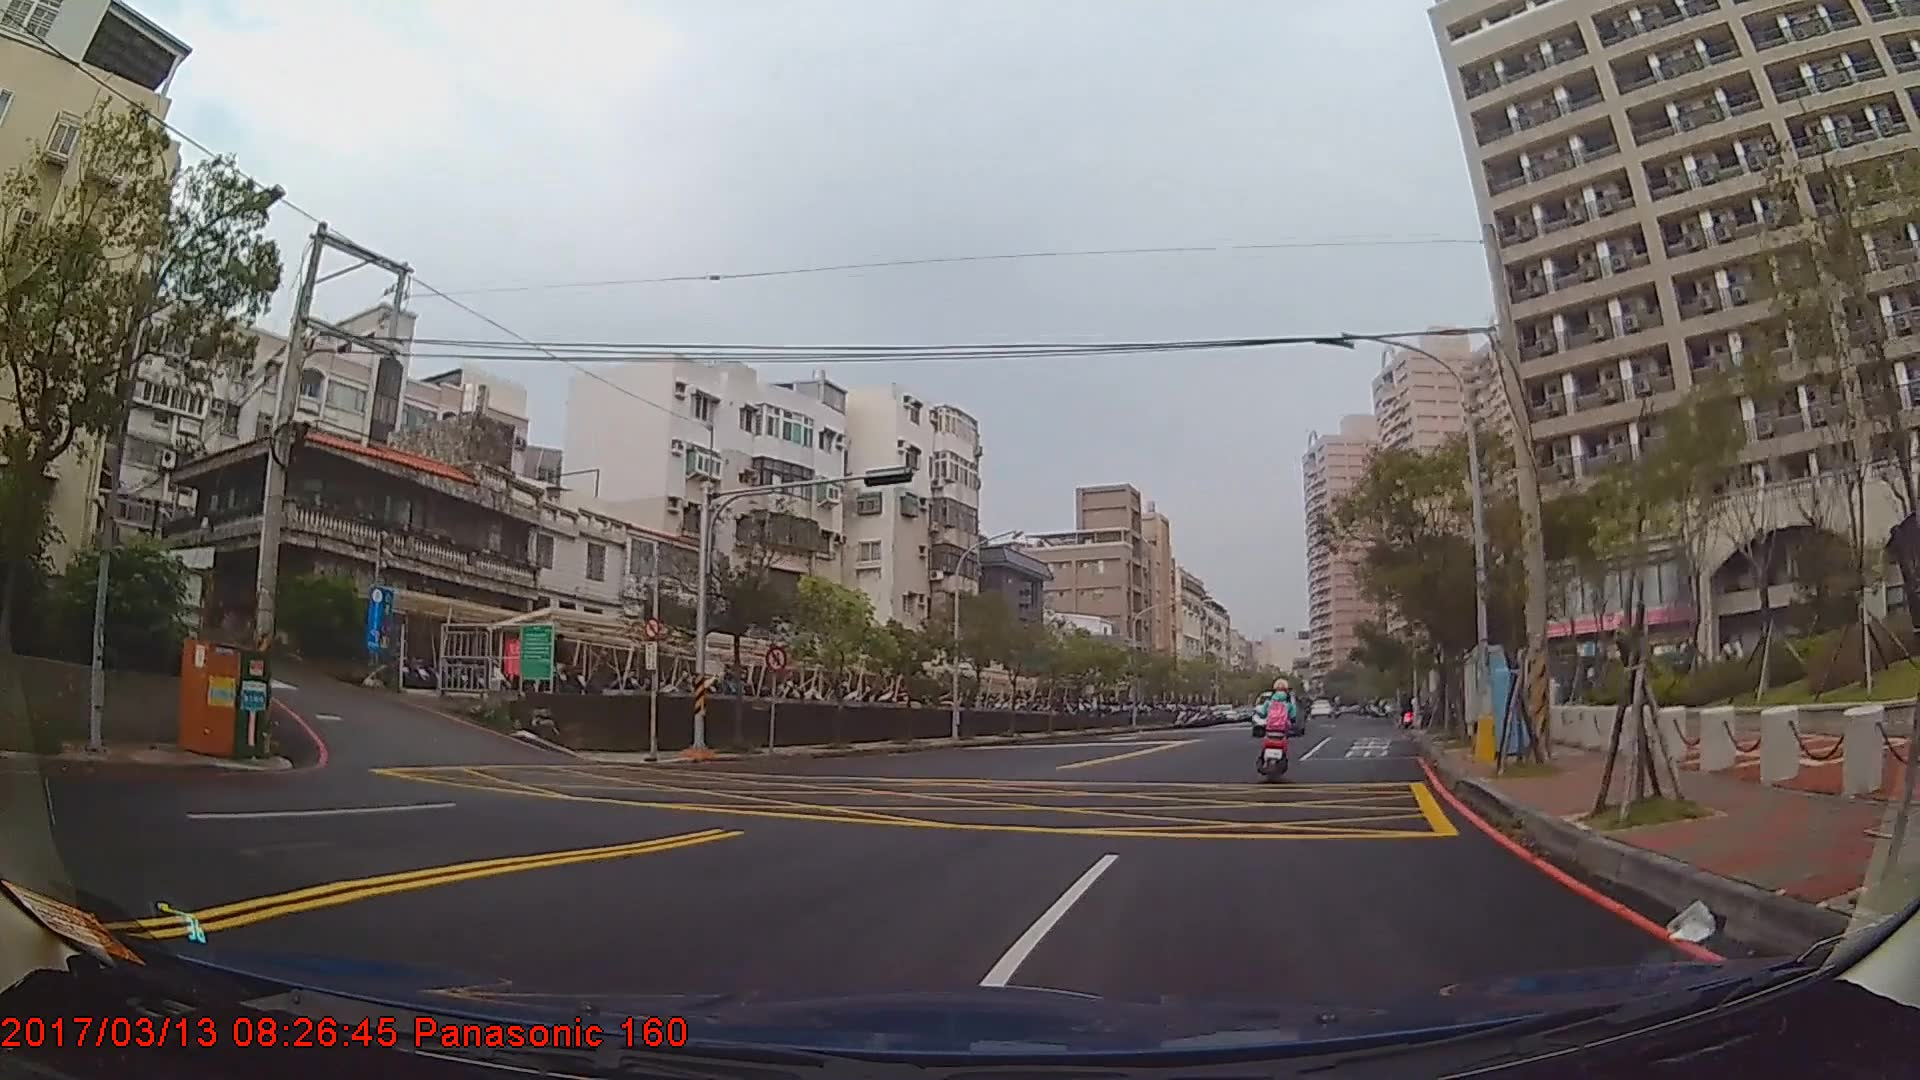rider: (1256, 679, 1302, 780)
vehicle: (1247, 687, 1304, 735)
